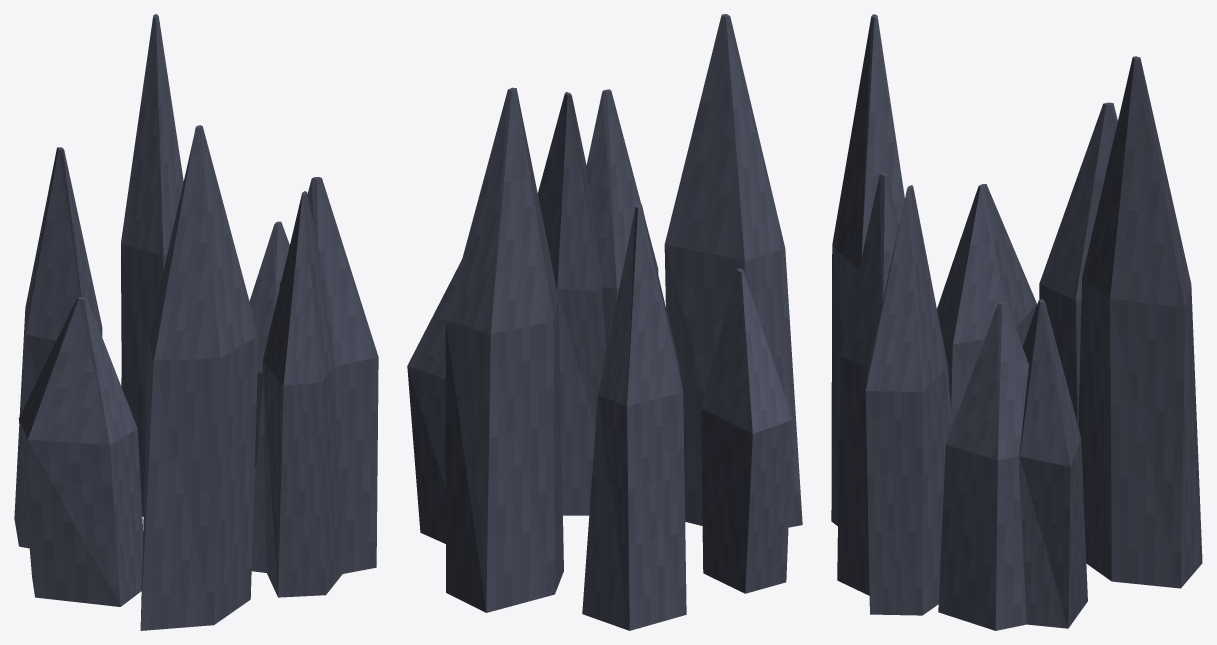
Rendered from cave-and-crystal-networks-obsidian-shards-a65e027d.glb.
The picture shows the model from 3 angles, left to right: view 1: azimuth 30°, elevation 25°; view 2: azimuth 150°, elevation 25°; view 3: azimuth 270°, elevation 25°; orthographic projection. The views are drawn at different scales.
Parts seen in each view (by area): view 1: obsidian-shards; view 2: obsidian-shards; view 3: obsidian-shards.
Boxes of the visible parts, box(x1,y1,x2,y2) form: obsidian-shards: box(14, 14, 378, 630); obsidian-shards: box(407, 14, 802, 630); obsidian-shards: box(831, 14, 1202, 630).
Bounding box in the file's own units: 0.7219 × 1 × 0.6617.
1 material, 1 textured.
